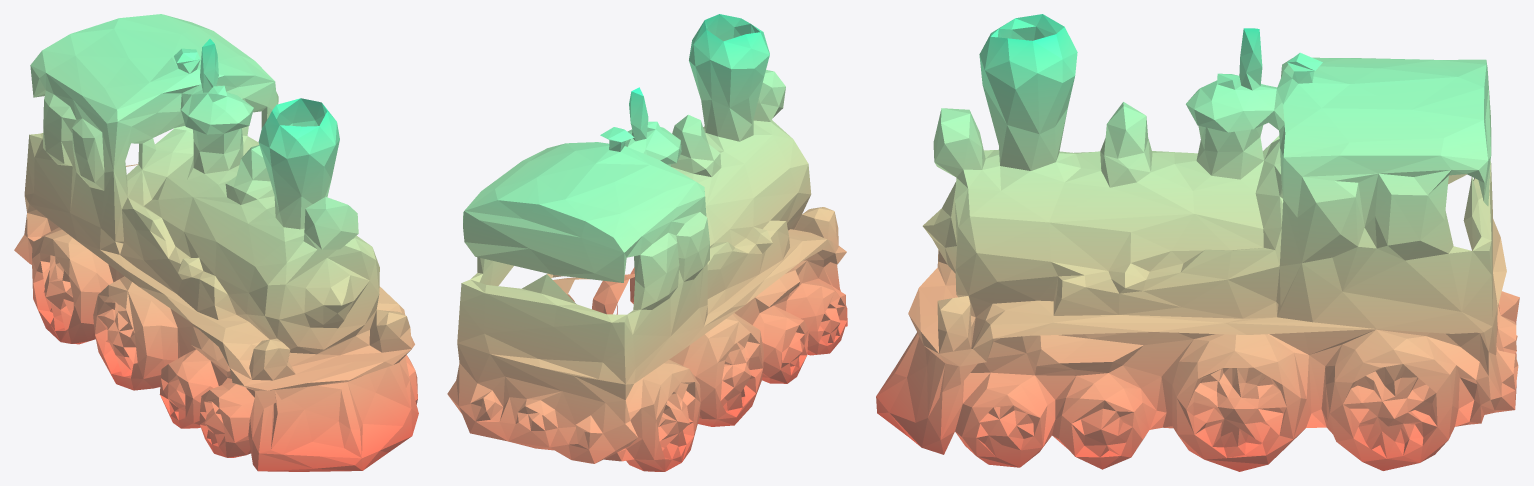
Rendered from 70_cyb_laser_gradient_fish_scales_2867_2026_10_03_2dcbd8.glb.
The picture shows the model from 3 angles, left to right: view 1: azimuth 30°, elevation 25°; view 2: azimuth 150°, elevation 25°; view 3: azimuth 270°, elevation 25°; orthographic projection. The views are drawn at different scales.
Parts seen in each view (by area): view 1: geometry_0; view 2: geometry_0; view 3: geometry_0.
Boxes of the visible parts, x1,y1,x2,y2 form: geometry_0: [14, 14, 418, 471]; geometry_0: [447, 14, 847, 471]; geometry_0: [876, 14, 1519, 471].
Bounding box in the file's own units: 0.469 × 0.6729 × 0.9959.
